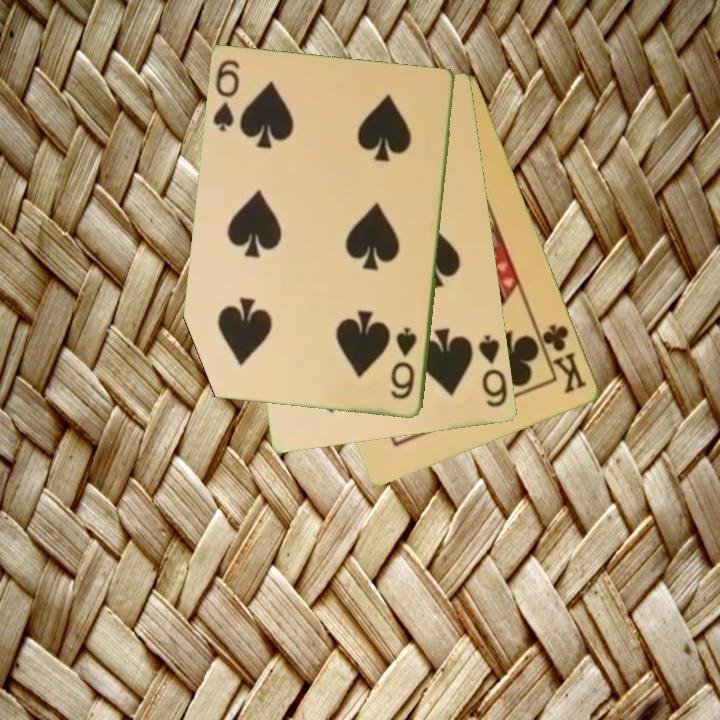6s: (475, 331, 511, 411), (209, 57, 244, 135), (387, 324, 421, 403)
Kc: (534, 321, 591, 397)
